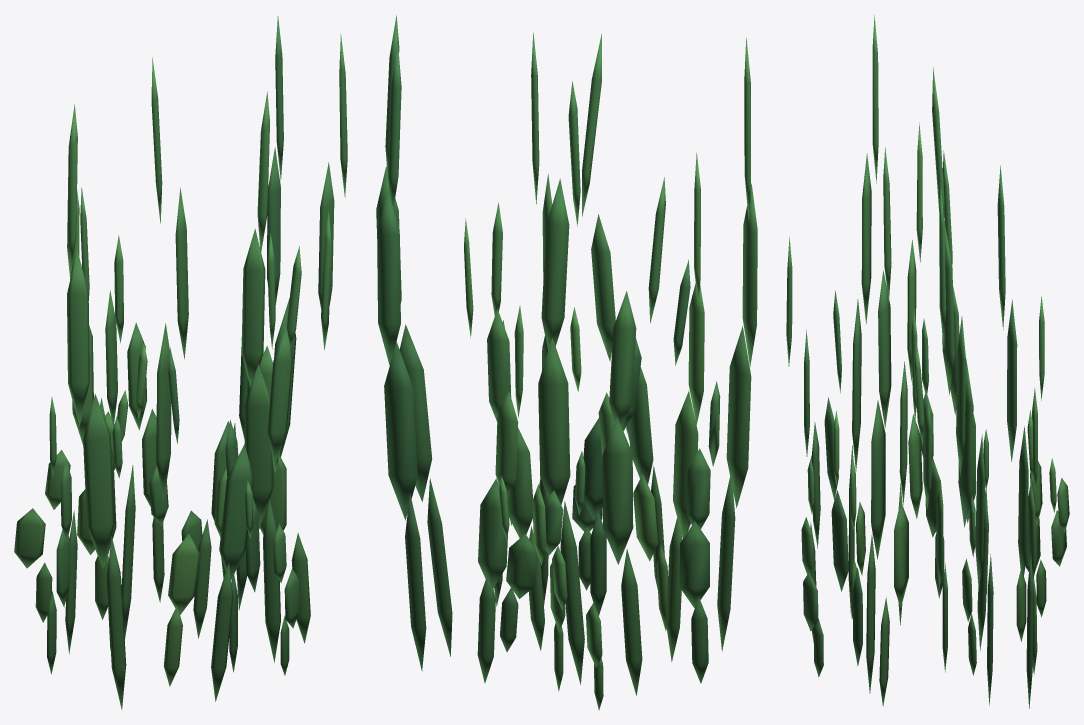
The model's file is seagrass.glb.
3 renders of one model, left to right at view 1: azimuth 30°, elevation 25°; view 2: azimuth 150°, elevation 25°; view 3: azimuth 270°, elevation 25°, orthographic. The views are drawn at different scales.
Parts seen in each view (by area): view 1: seagrass; view 2: seagrass; view 3: seagrass.
Boxes of the visible parts, left/top/right/bottom form: seagrass: left=14, top=16, right=347, bottom=709; seagrass: left=376, top=15, right=757, bottom=710; seagrass: left=786, top=15, right=1069, bottom=708.
Bounding box in the file's own units: 0.6087 × 1.11 × 0.4852.
